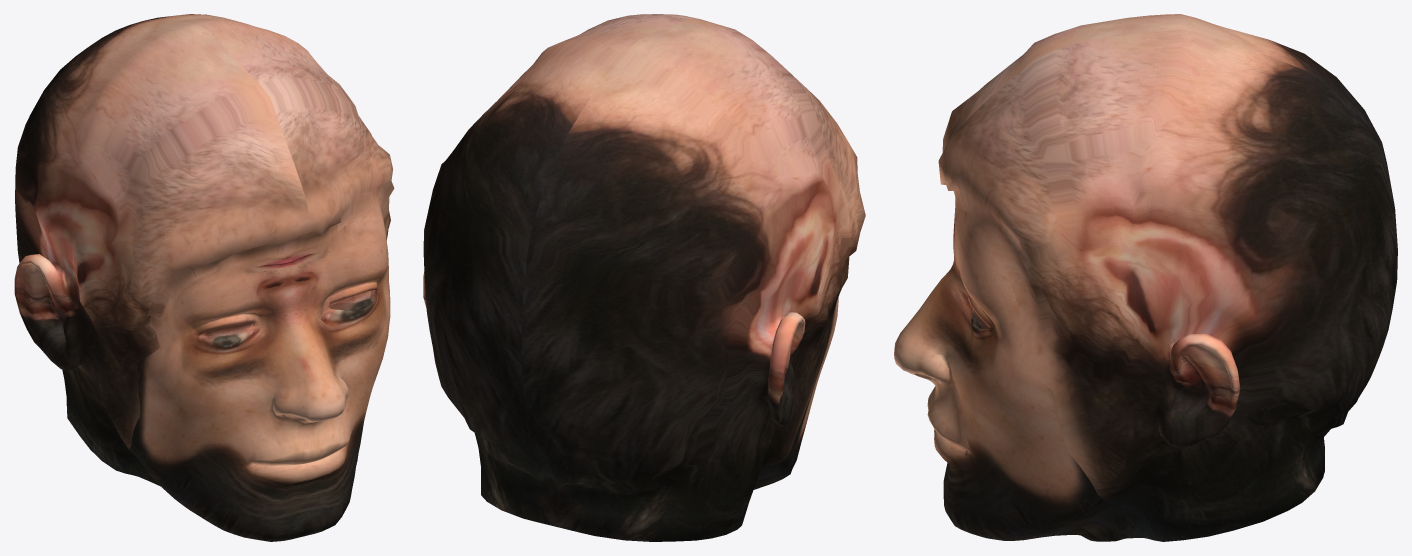
File: ZFUCKED.obj
3 renders of one model, left to right at view 1: azimuth 30°, elevation 25°; view 2: azimuth 150°, elevation 25°; view 3: azimuth 270°, elevation 25°, orthographic. The views are drawn at different scales.
Parts seen in each view (by area): view 1: object0.001; view 2: object0.001; view 3: object0.001.
Boxes of the visible parts, <box> form: object0.001: <box>14,14,394,541</box>; object0.001: <box>423,14,865,541</box>; object0.001: <box>894,14,1397,541</box>.
Bounding box in the file's own units: 18.36 × 23.9 × 22.03.
